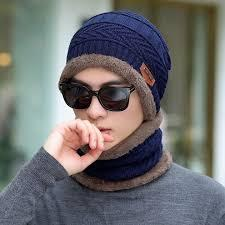cap: (59, 9, 181, 115)
sunglasses: (57, 74, 138, 119)
